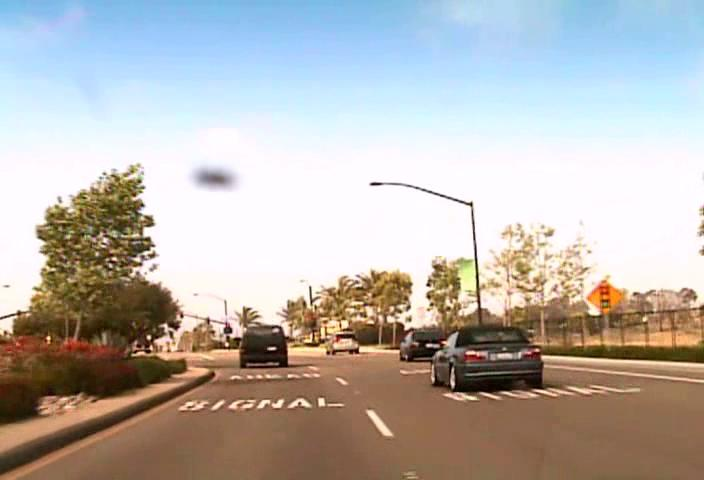signalAhead: (586, 279, 623, 314)
